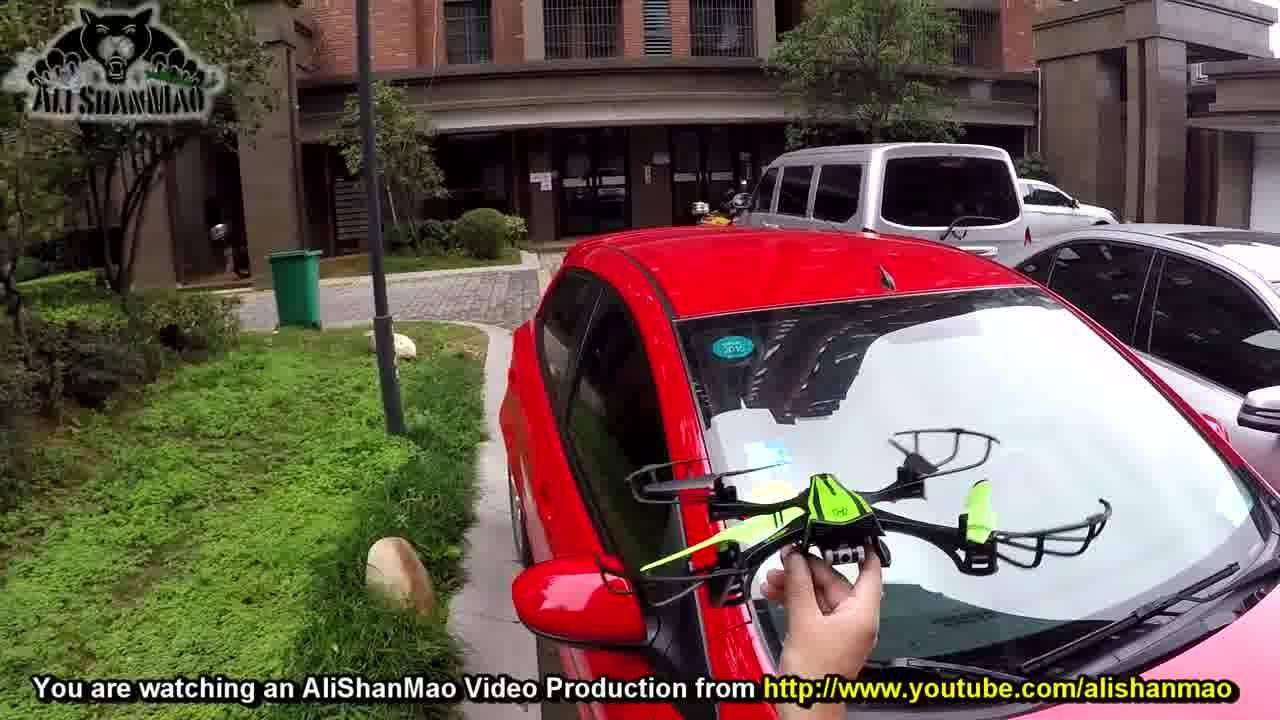drone: (619, 424, 856, 592)
